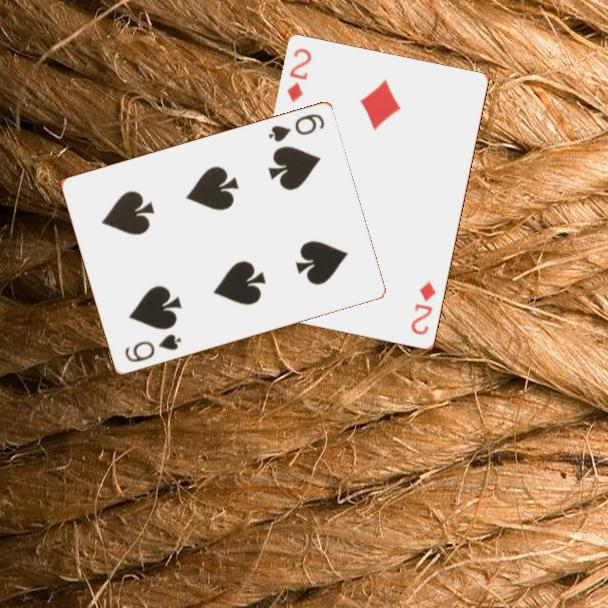d02: (407, 278, 439, 338), (284, 45, 315, 105)
s06: (121, 331, 184, 366), (265, 110, 327, 145)
